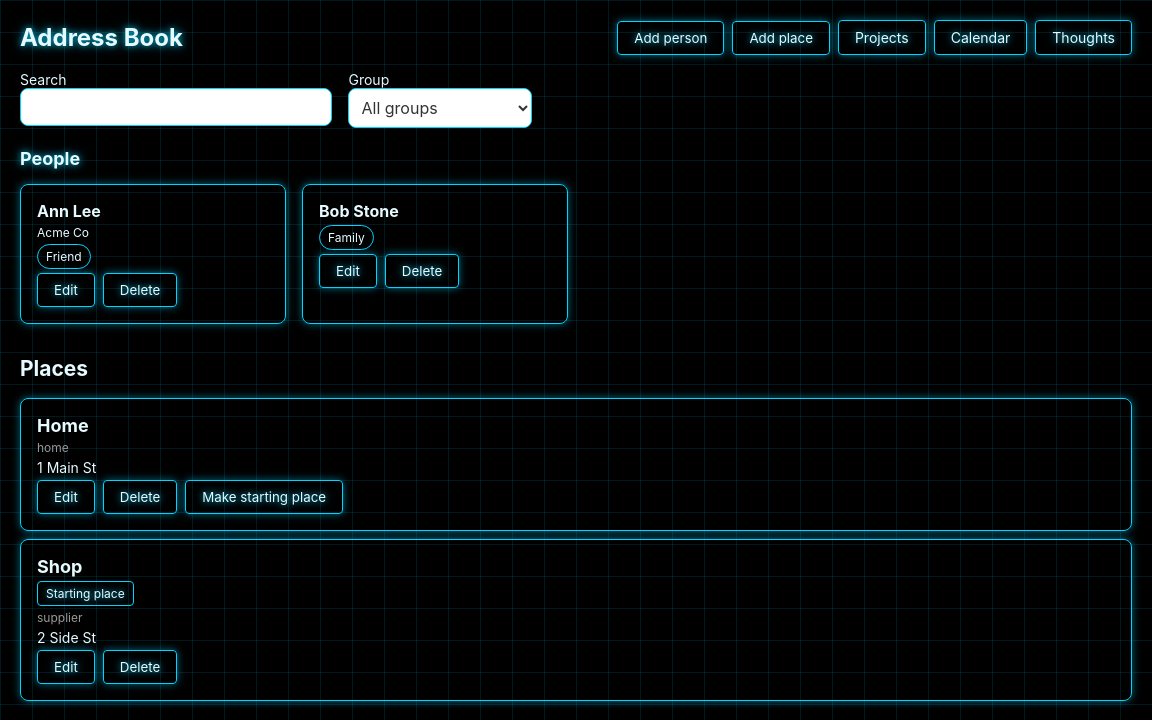
Test: AddressBookPage pop-up › a place add closes the pop-up
The image size is (1152, 720).
Click the button "Add place": point(781, 38) [732,20,830,54]
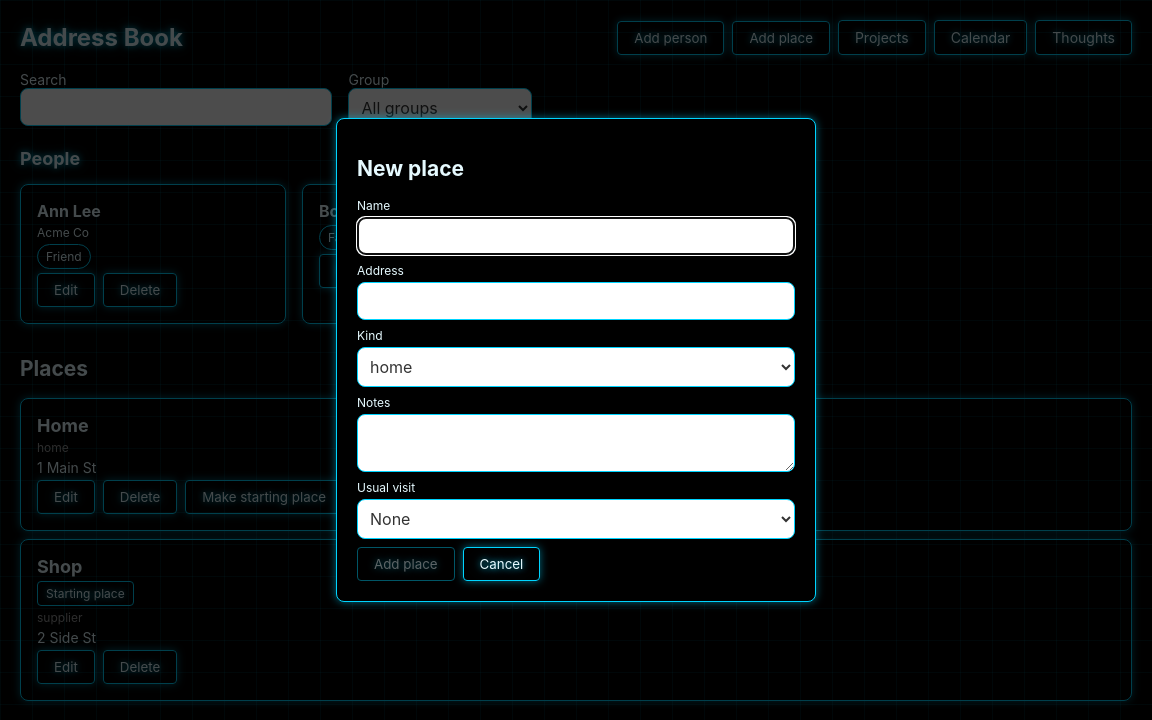
In the field labelled "Name": point(576, 236) [357,217,795,255], type "Gym"
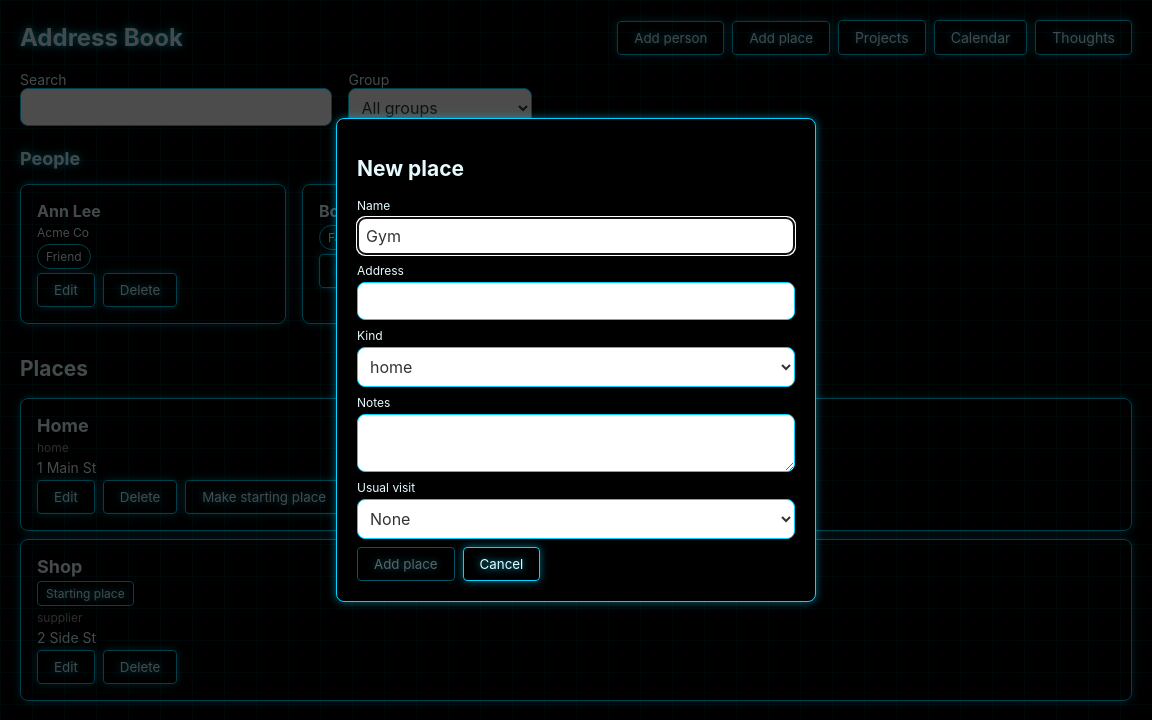
In the field labelled "Address": point(576, 301) [357,282,795,320], type "3 Elm"
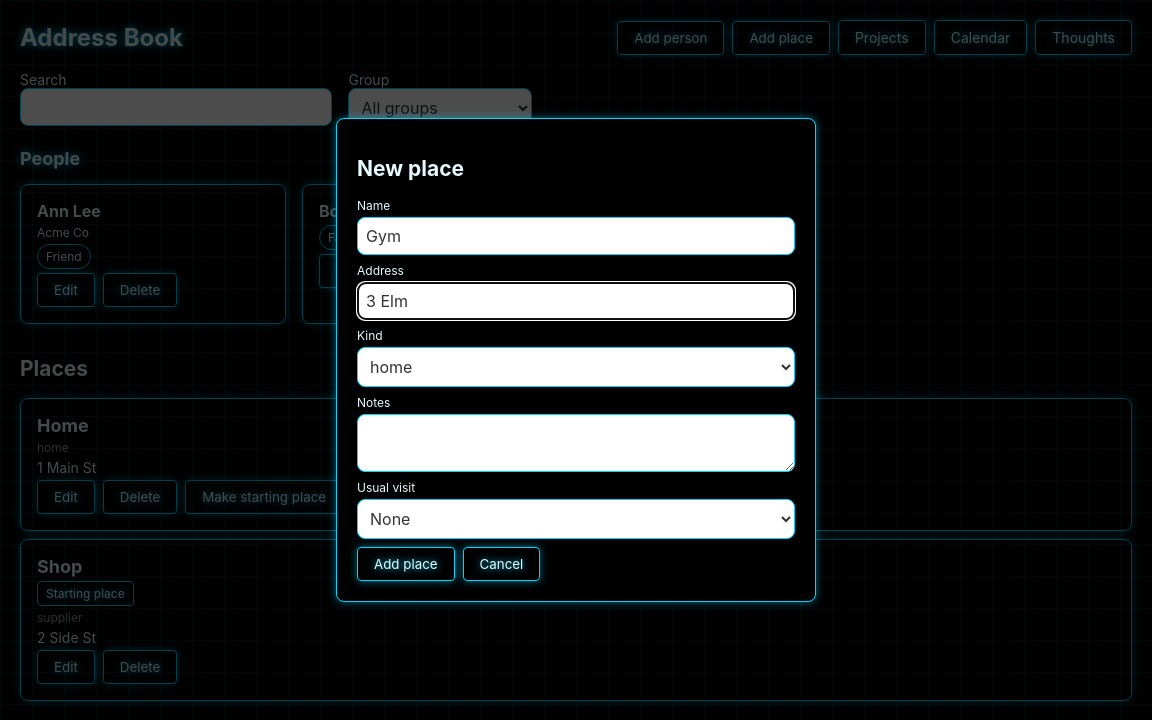
Click the button "Add place": point(406, 564) [357,547,454,581]
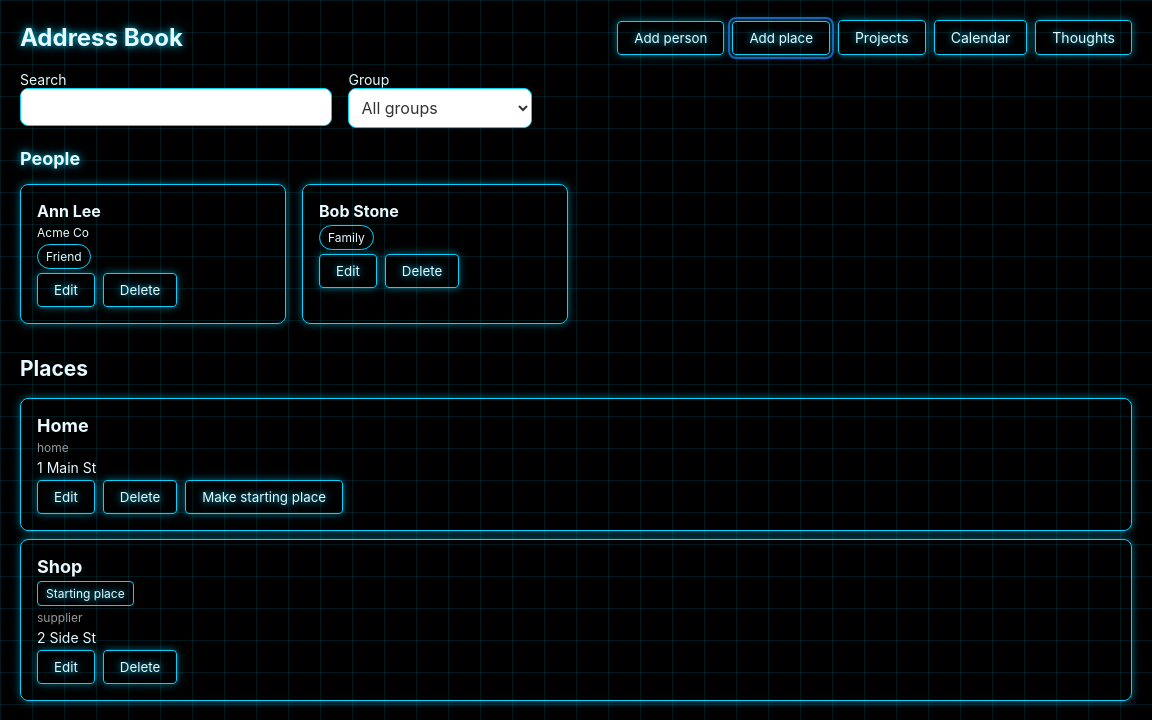
Result: the dialog is gone
